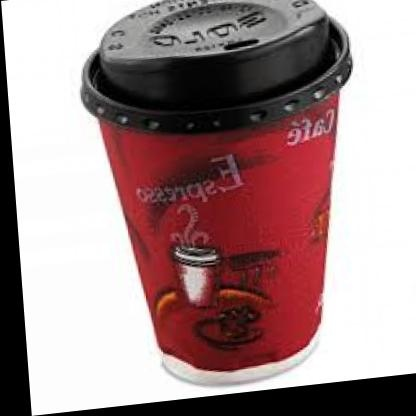trash: (81, 0, 351, 384)
